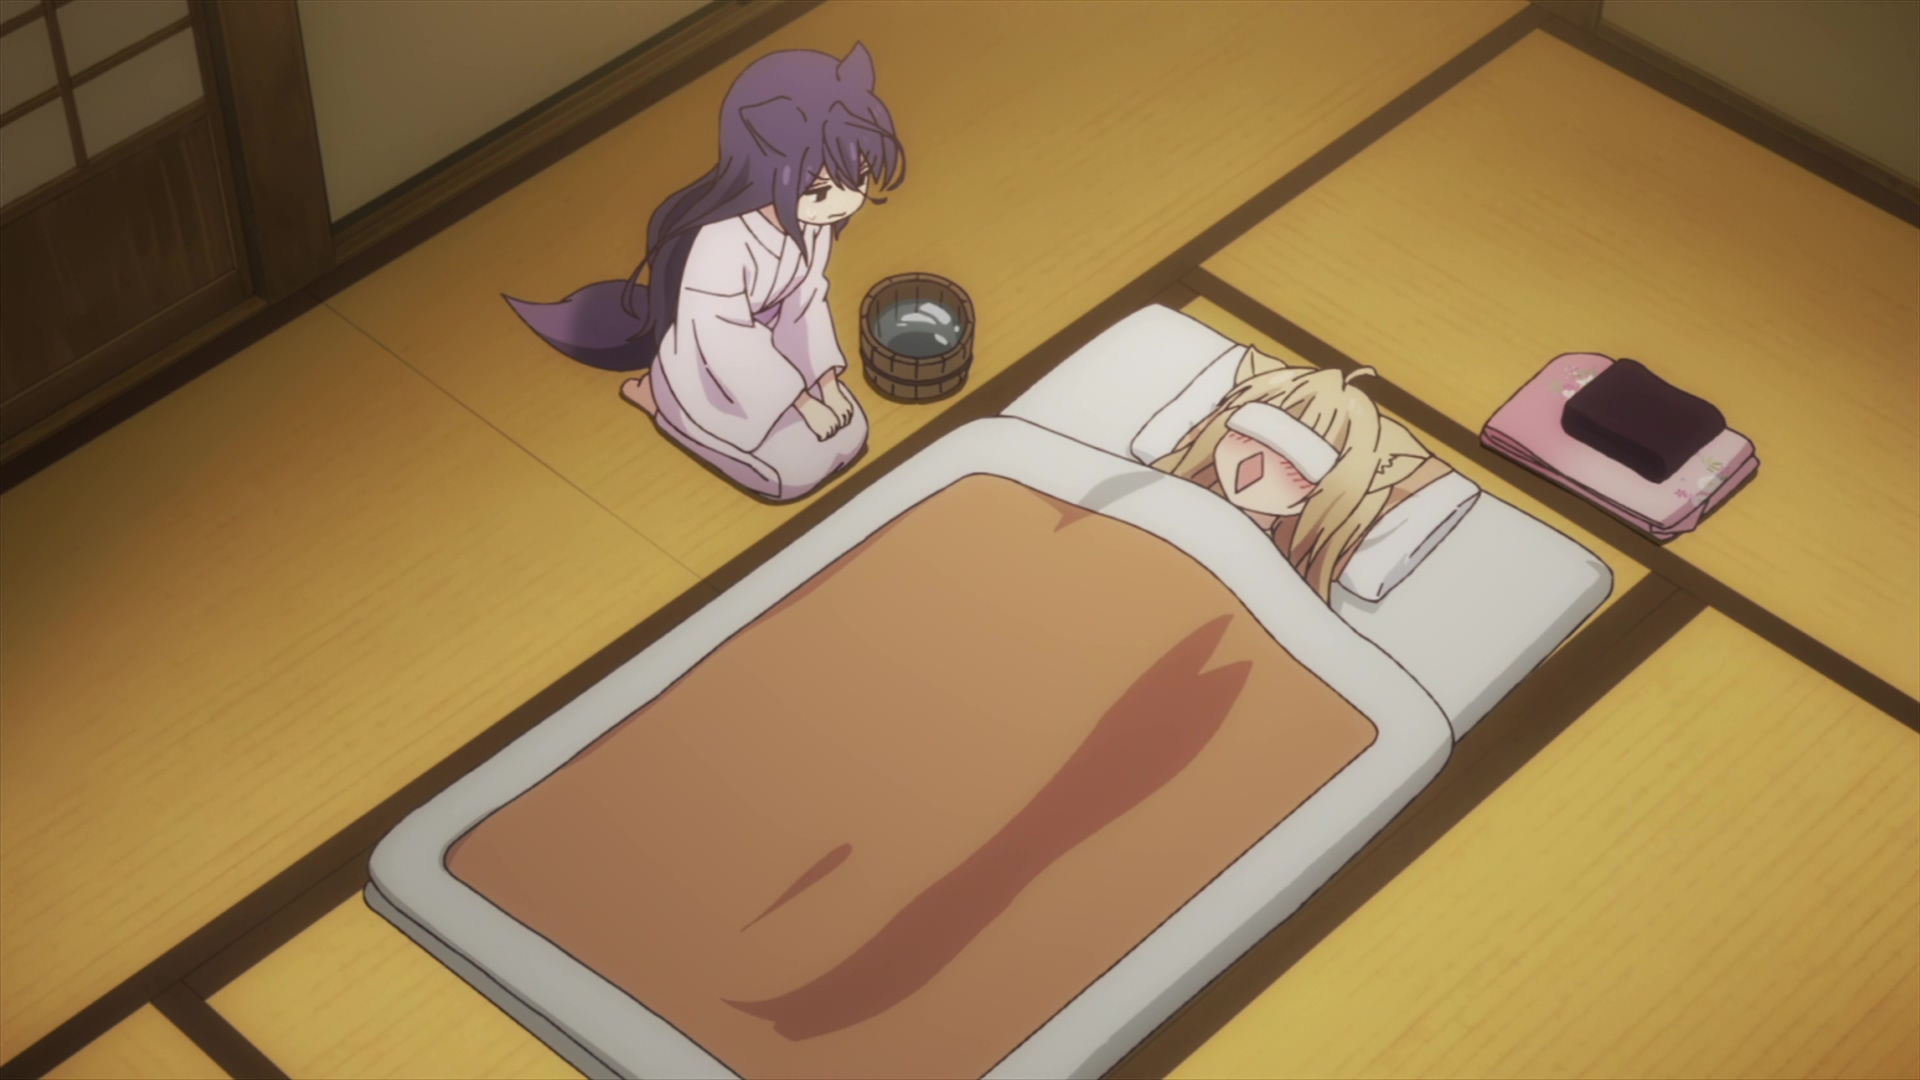柚: (1147, 342, 1456, 607)
皋: (497, 40, 909, 506)
